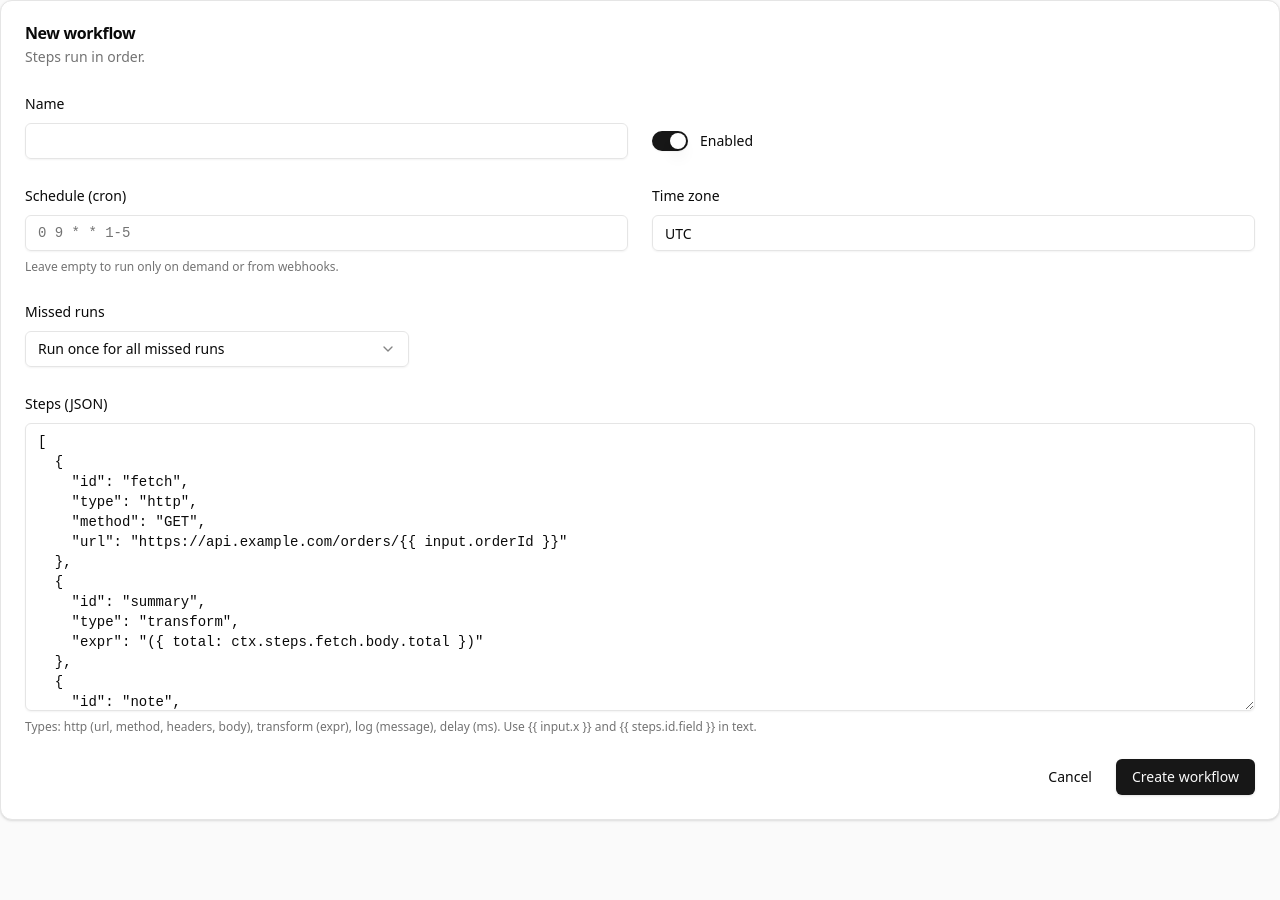
Scenario: WorkflowForm › disables saving while the request is in flight
Type "Orders" into the field labelled "Name" at (326, 141), box top-left (25, 123), bottom-right (628, 159)
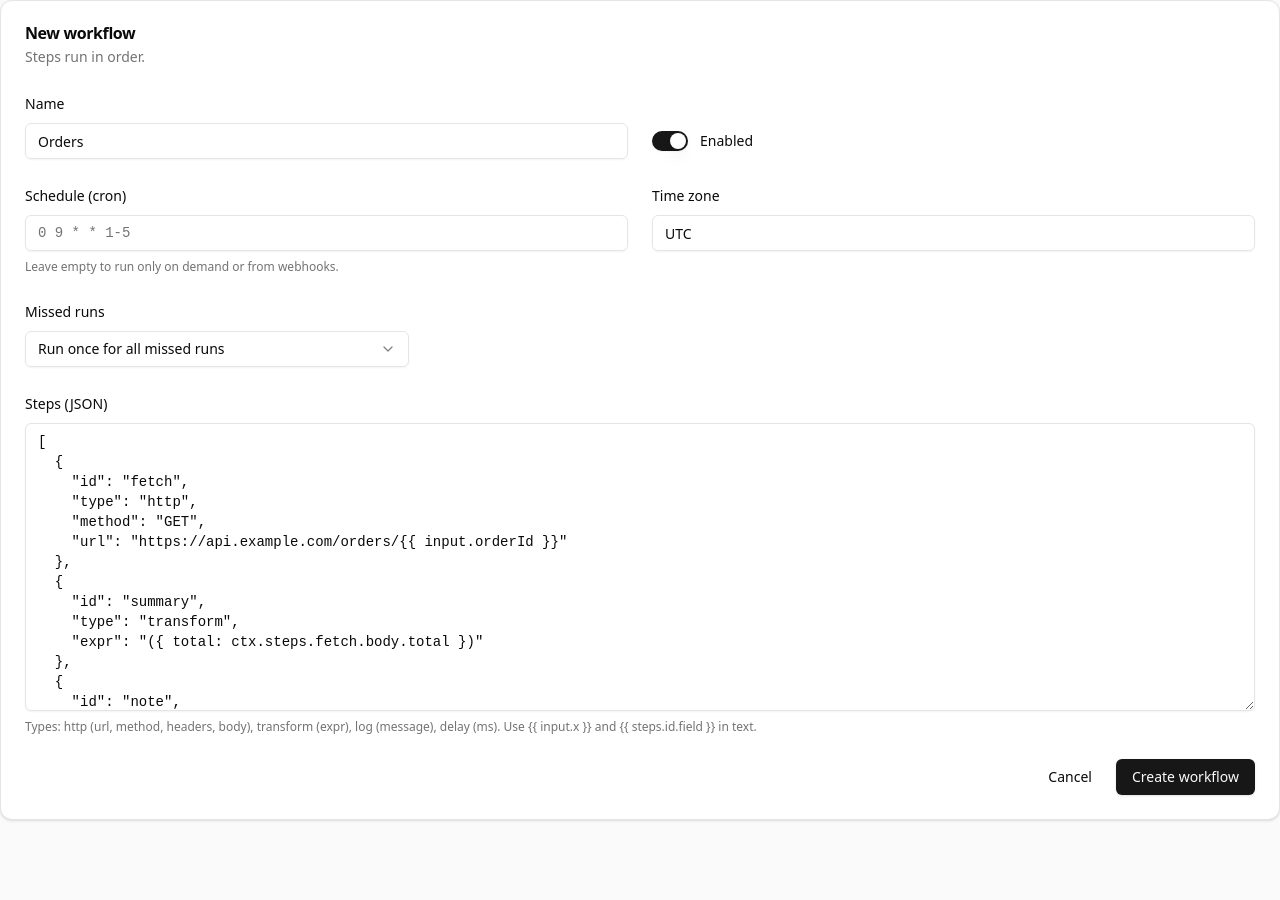
Click the button "Create workflow" at (1186, 777), box top-left (1116, 759), bottom-right (1255, 795)
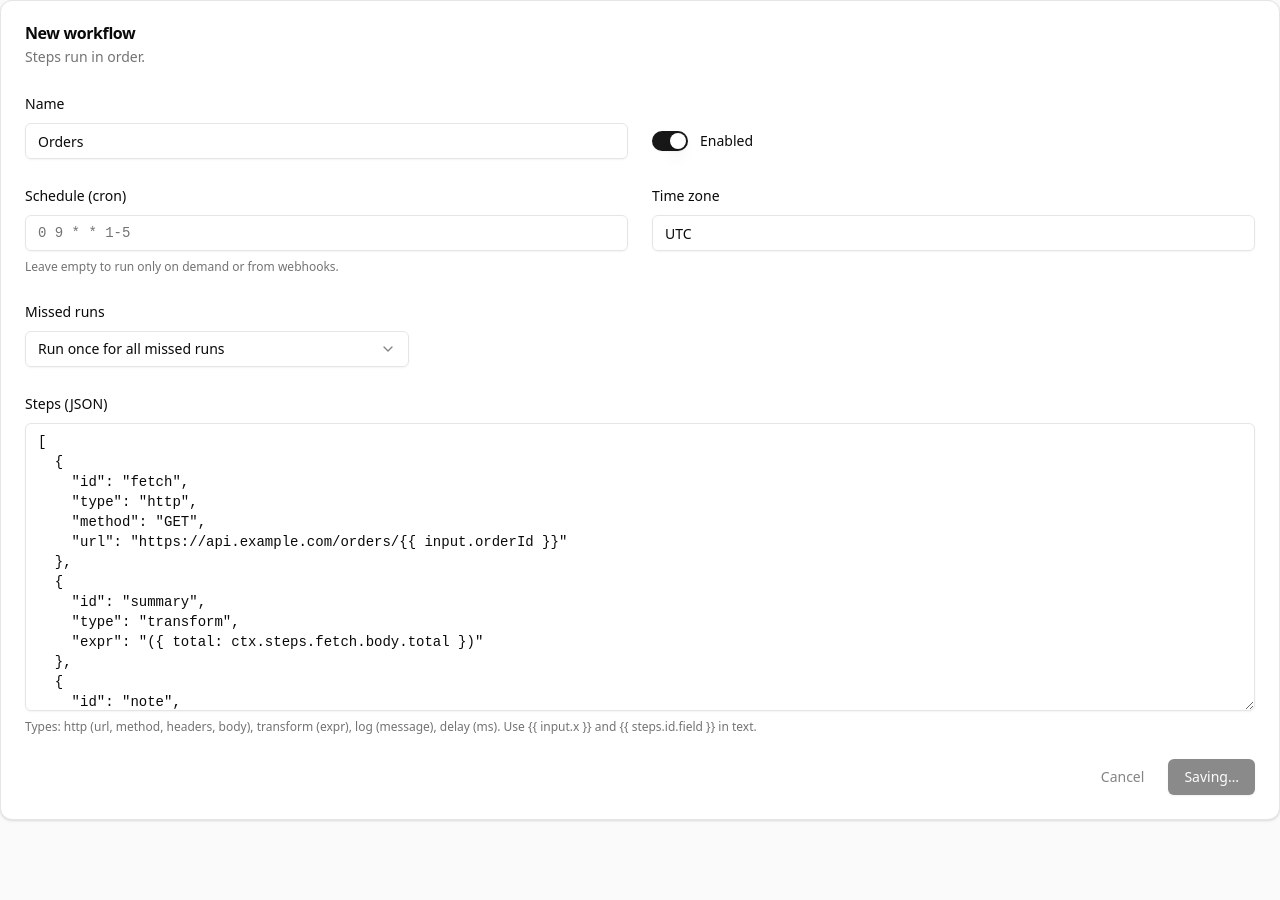
Result: the button "Saving…" is disabled at top-left (1168, 759), bottom-right (1255, 795)
